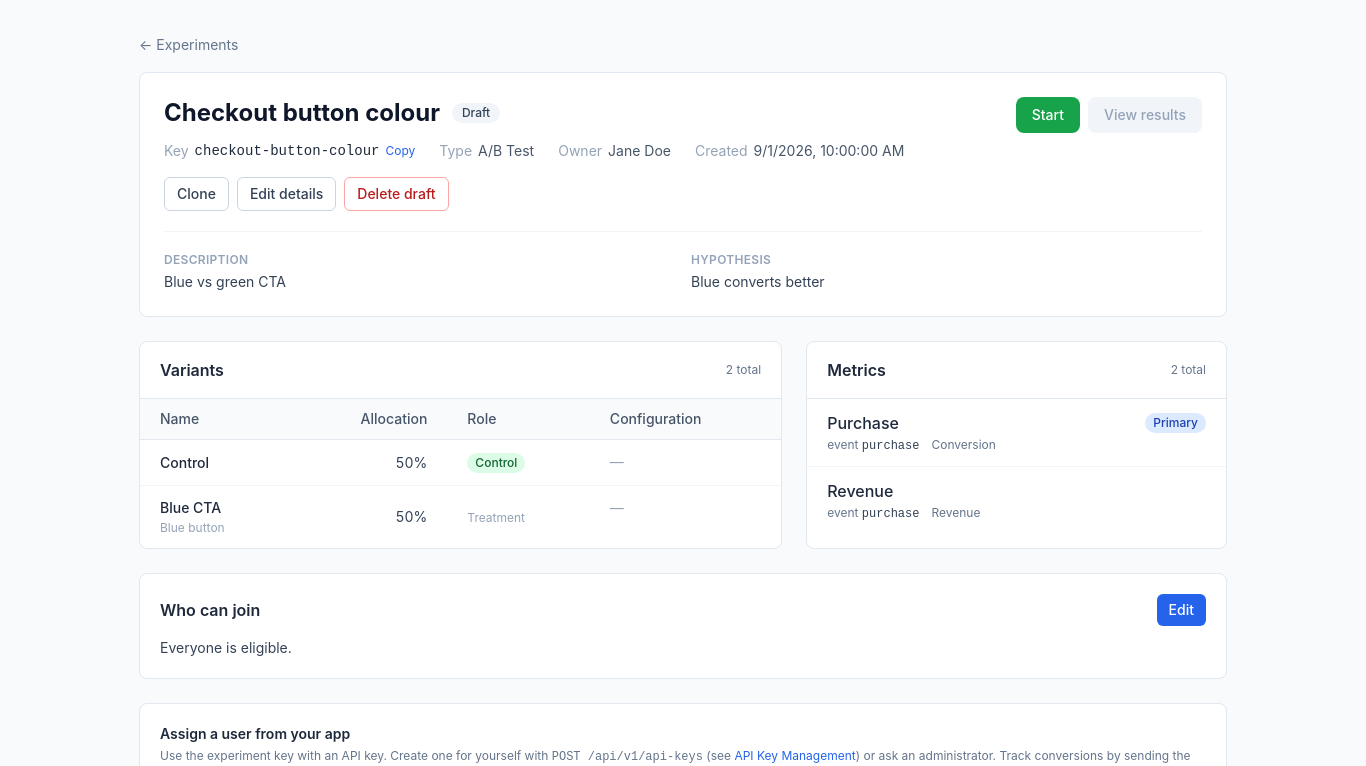
Scenario: ExperimentDetailPage — the owner's name (#921) › keeps the name after Start
Click the button with test id "action-start" at (1048, 115), box left=1016, top=97, right=1080, bottom=133
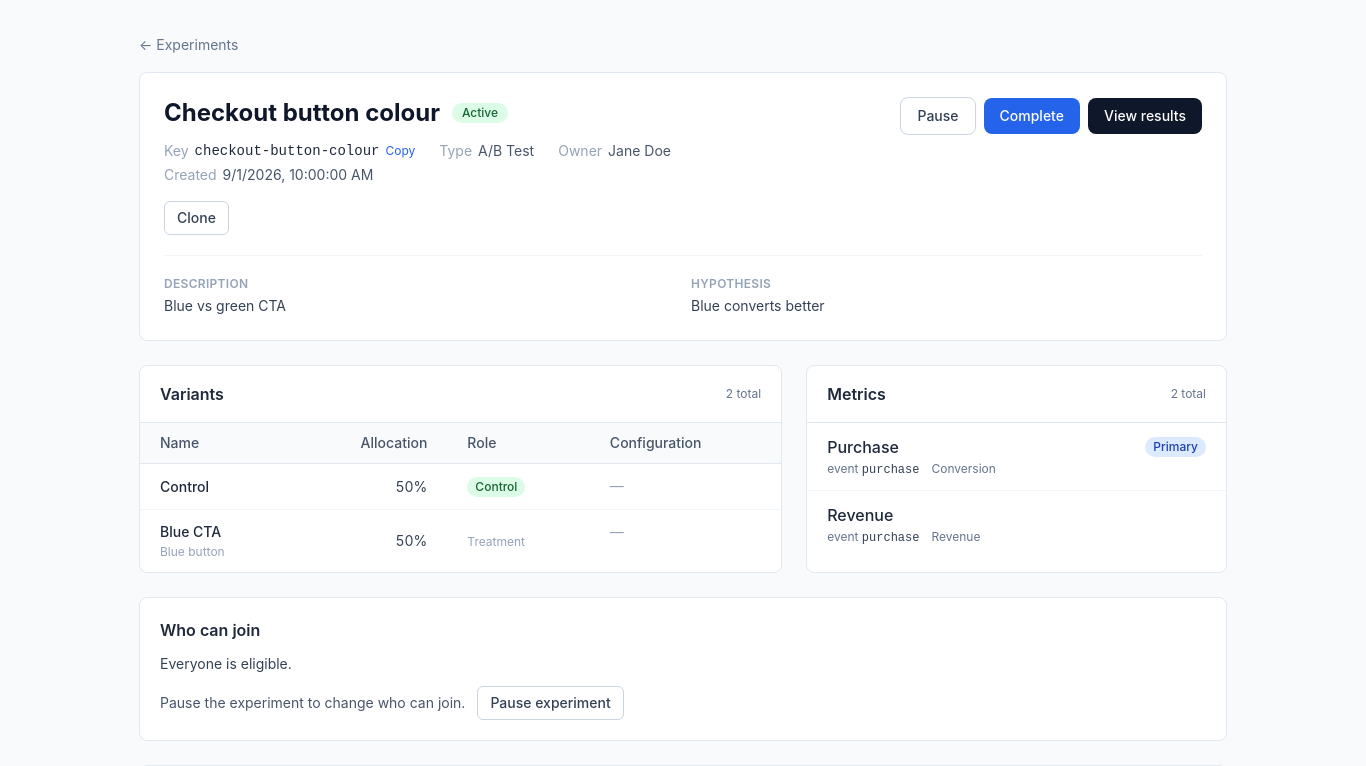
Check: the text with test id "experiment-owner" reads "Jane Doe", box left=608, top=142, right=671, bottom=159
Check: the text with test id "experiment-status" reads "Active", box left=462, top=105, right=498, bottom=120
